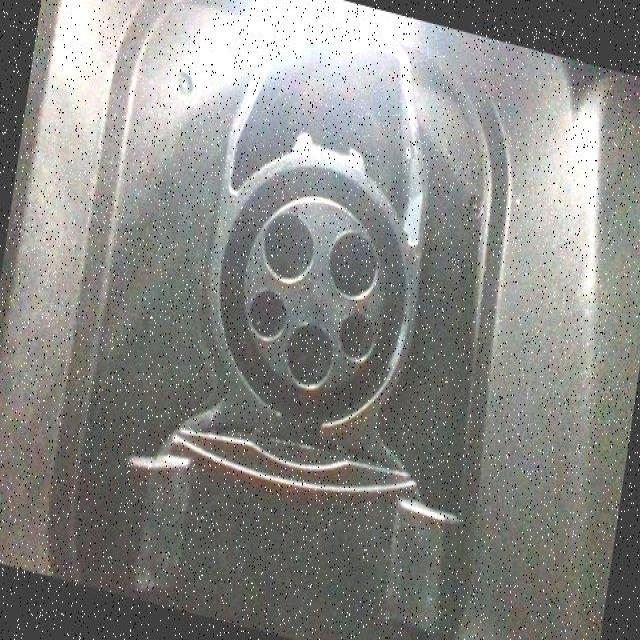Type 1: (228, 177, 401, 416)
